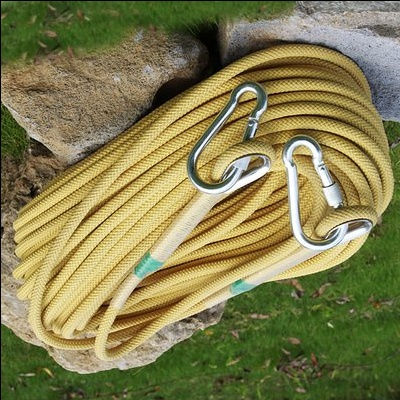9/可回收垃圾/绳子: (11, 44, 394, 362)
